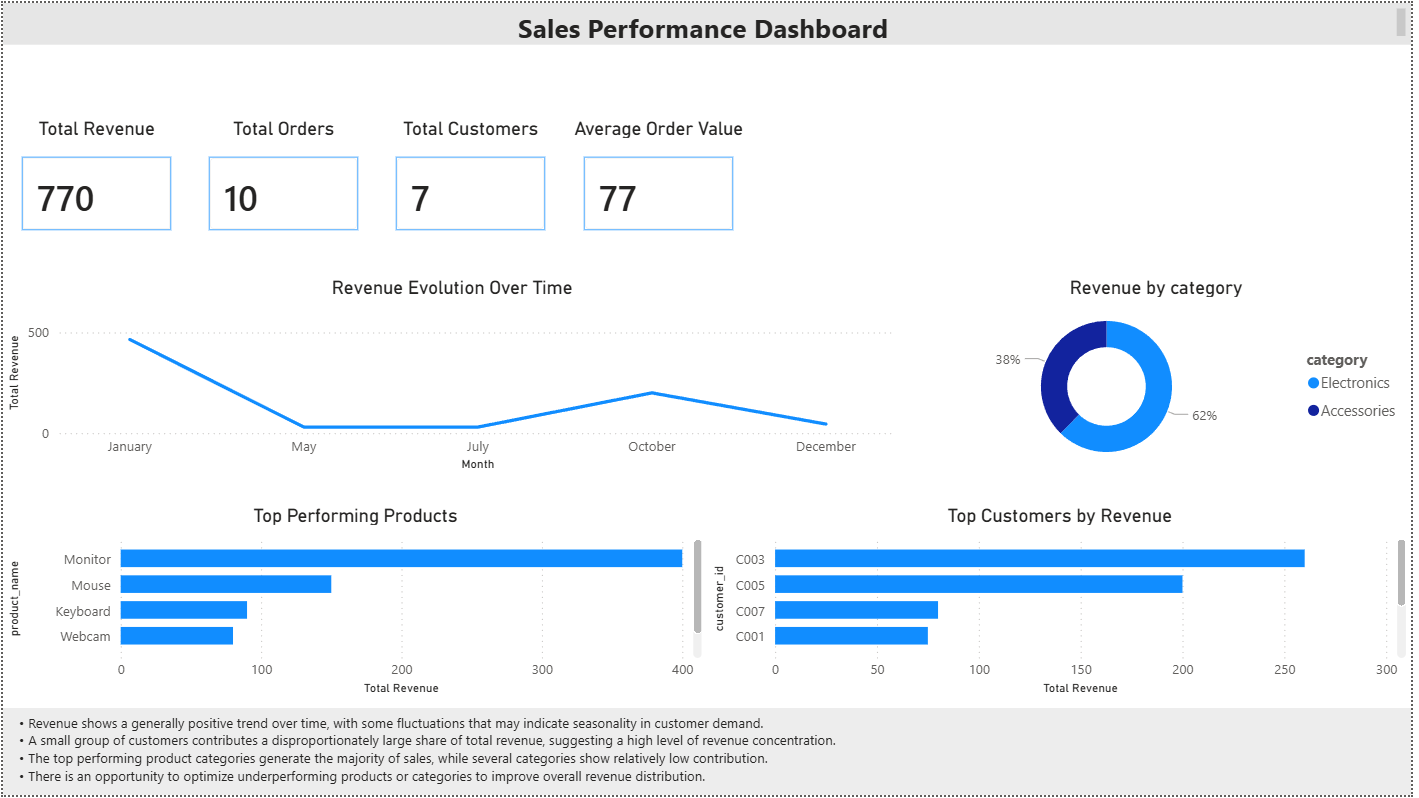

The dashboard page shown, as its layout file describes it:
{"tool":"powerbi","page":{"name":"Page 1","canvas":[1280,720],"ordinal":0},"visuals":[{"type":"cardVisual","title":"Total Revenue","fields":{"Data":["clean_sales.Total Revenue"]},"box":[0,93.4,170.2,130.3],"z":0},{"type":"cardVisual","title":"Total Orders","fields":{"Data":["clean_sales.Total Orders"]},"box":[170.2,93.4,170.2,130.3],"z":1000},{"type":"cardVisual","title":"Total Customers","fields":{"Data":["clean_sales.Total Customers"]},"box":[340.4,93.4,170.2,130.3],"z":2000},{"type":"cardVisual","title":"Average Order Value","fields":{"Data":["clean_sales.Avg Revenue per Order"]},"box":[510.6,93.4,170.2,130.3],"z":3000},{"type":"lineChart","title":"Revenue Evolution Over Time","fields":{"Category":["clean_sales.month.Variation.Date Hierarchy.Month","clean_sales.month.Variation.Date Hierarchy.Day"],"Y":["clean_sales.Total Revenue"]},"box":[0,248.1,816.4,181.9],"z":4000},{"type":"barChart","title":"Top Performing Products","fields":{"Category":["clean_sales.product_name"],"Y":["clean_sales.Total Revenue"]},"box":[0,455.7,640.5,177.9],"z":5000},{"type":"donutChart","title":"Revenue by category","fields":{"Category":["clean_sales.category"],"Y":["clean_sales.Total Revenue"]},"box":[816.4,248.1,463.6,181.9],"z":6000},{"type":"barChart","title":"Top Customers by Revenue","fields":{"Category":["clean_sales.customer_id"],"Y":["clean_sales.Total Revenue"]},"box":[640.5,455.7,639.5,177.9],"z":8000},{"type":"shape","box":[0,0,1280,37.9],"z":8001},{"type":"textbox","box":[0,0,1280,37.9],"z":8002},{"type":"textbox","box":[0,640.5,1280,79.1],"z":8003}]}

Visuals, with their boxes in screenshot pixels (x1, y1, x2, y2), scaled from the page's 1280x720 canvas onto the 1419x798 screenshot:
"Total Revenue" cardVisual: x1=0, y1=104, x2=189, y2=248
"Total Orders" cardVisual: x1=189, y1=104, x2=377, y2=248
"Total Customers" cardVisual: x1=377, y1=104, x2=566, y2=248
"Average Order Value" cardVisual: x1=566, y1=104, x2=755, y2=248
"Revenue Evolution Over Time" lineChart: x1=0, y1=275, x2=905, y2=477
"Top Performing Products" barChart: x1=0, y1=505, x2=710, y2=702
"Revenue by category" donutChart: x1=905, y1=275, x2=1418, y2=477
"Top Customers by Revenue" barChart: x1=710, y1=505, x2=1418, y2=702
shape: x1=0, y1=0, x2=1418, y2=42
textbox: x1=0, y1=0, x2=1418, y2=42
textbox: x1=0, y1=710, x2=1418, y2=797
